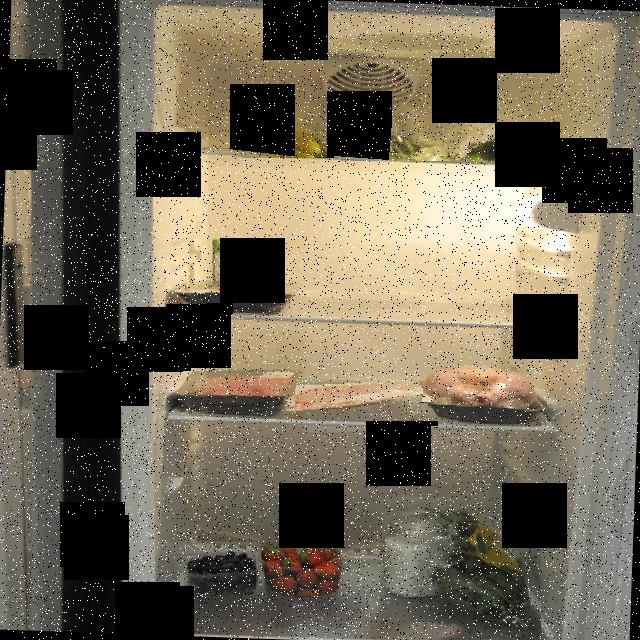banana: (228, 116, 334, 158)
beef: (170, 279, 306, 315)
blueberries: (180, 549, 256, 597)
chicken: (417, 358, 547, 426)
green_beans: (337, 117, 484, 161)
ground_beef: (172, 368, 300, 414)
ham: (295, 382, 424, 418)
heavy_cream: (206, 236, 248, 286)
lime: (467, 136, 543, 164)
spinach: (418, 503, 542, 637)
strawberries: (257, 530, 348, 598)
sugar: (380, 506, 452, 597)
